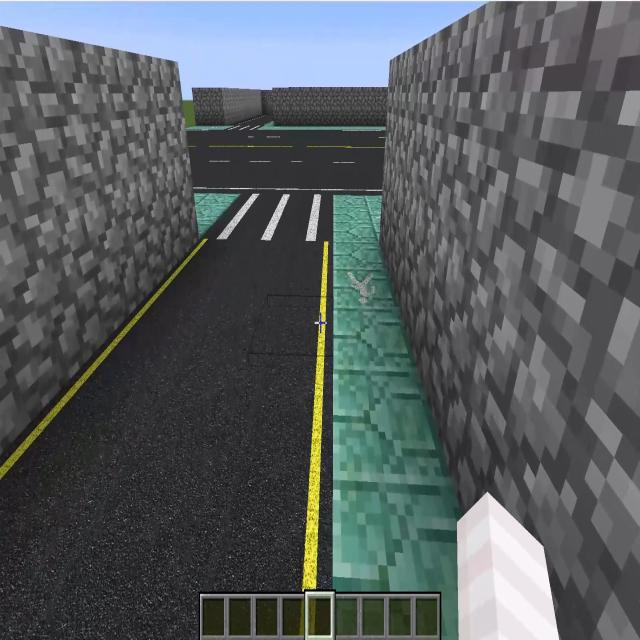crosswalk: (218, 192, 290, 241)
road: (0, 130, 383, 639)
sidewalk: (329, 195, 459, 639), (195, 194, 239, 238), (259, 123, 385, 132), (187, 126, 231, 131), (188, 127, 204, 131)
